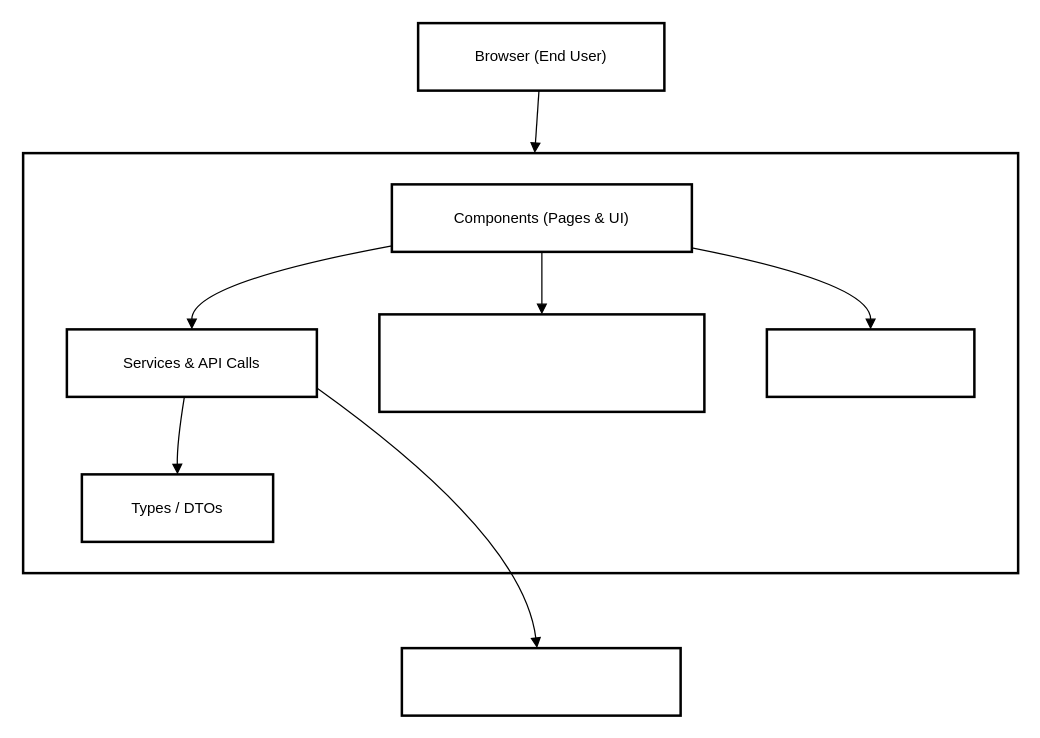
The diagram is 1040 pixels wide and 738 high, and some of its shapes have lost their labels. Here are the shapes that lost their labels. From the top down, the centre of each, then its label:
At (x=541, y=362): "Hooks & Context / State Management".
At (x=870, y=363): "Styles & Assets".
At (x=540, y=681): "Backend API (External)".
